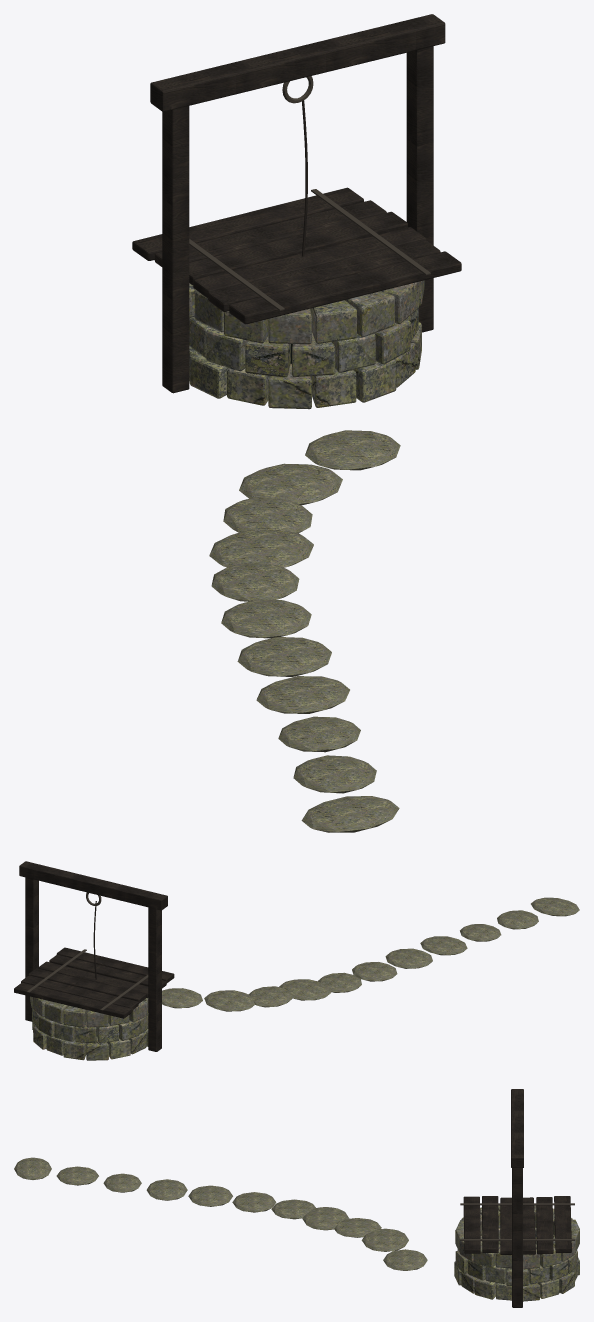
The model's file is well-story.glb.
3 views of the same model, one above another, from view 1: azimuth 30°, elevation 25°; view 2: azimuth 150°, elevation 25°; view 3: azimuth 270°, elevation 25° (orthographic). The views are drawn at different scales.
Visible parts, largest first — view 1: Sagging well crossbar, Old well upright, Old well upright.001, Weathered sealing board, Weathered sealing board.001, Weathered sealing board.003, Weathered sealing board.005, Weathered sealing board.002, Weathered sealing board.004, Old well path stone.009, Old well path stone.007, Old well path stone.010 (+21 smaller); view 2: Sagging well crossbar, Old well upright, Old well upright.001, Weathered sealing board.005, Weathered sealing board.003, Weathered sealing board.004, Weathered sealing board.001, Weathered sealing board, Weathered sealing board.002, Old well path stone.009, Old well path stone.007, Old well path stone.004 (+22 smaller); view 3: Old well upright.001, Sagging well crossbar, Weathered sealing board, Weathered sealing board.004, Weathered sealing board.005, Weathered sealing board.001, Old well path stone.009, Old well path stone.007, Old well path stone.010, Old well path stone.004, Old well path stone.005, Old well path stone.003 (+15 smaller).
Part boxes in pixels (box(x1,y1,x2,y2)): Sagging well crossbar: box(150, 14, 445, 111); Old well upright: box(162, 106, 189, 393); Old well upright.001: box(406, 46, 433, 332); Weathered sealing board: box(229, 251, 461, 324); Weathered sealing board.001: box(208, 239, 440, 311); Weathered sealing board.003: box(189, 211, 407, 285); Weathered sealing board.005: box(132, 187, 363, 260); Weathered sealing board.002: box(193, 227, 426, 298); Weathered sealing board.004: box(154, 200, 386, 266); Old well path stone.009: box(239, 463, 342, 505); Old well path stone.007: box(209, 529, 313, 567); Old well path stone.010: box(305, 430, 400, 470); Sagging well crossbar: box(19, 861, 167, 910); Old well upright: box(148, 907, 161, 1051); Old well upright.001: box(25, 877, 38, 1021); Weathered sealing board.005: box(14, 982, 131, 1018); Weathered sealing board.003: box(28, 968, 146, 1003); Weathered sealing board.004: box(21, 975, 138, 1010); Weathered sealing board.001: box(49, 954, 166, 988); Weathered sealing board: box(56, 947, 174, 983); Weathered sealing board.002: box(38, 961, 148, 997); Old well path stone.009: box(204, 990, 254, 1011); Old well path stone.007: box(279, 979, 331, 1000); Old well path stone.004: box(385, 948, 432, 968); Old well upright.001: box(512, 1168, 522, 1307); Sagging well crossbar: box(511, 1089, 523, 1167); Weathered sealing board: box(463, 1196, 480, 1253); Weathered sealing board.004: box(536, 1197, 553, 1254); Weathered sealing board.005: box(554, 1196, 571, 1252); Weathered sealing board.001: box(482, 1196, 498, 1252); Old well path stone.009: box(361, 1228, 408, 1251); Old well path stone.007: box(302, 1207, 349, 1230); Old well path stone.010: box(383, 1249, 427, 1270); Old well path stone.004: box(188, 1185, 232, 1206); Old well path stone.005: box(232, 1192, 276, 1212); Old well path stone.003: box(146, 1179, 187, 1200).
Size of the model in its own units: 4.9 by 2.34 by 7.78.
Materials: 5 (3 with a texture image).
